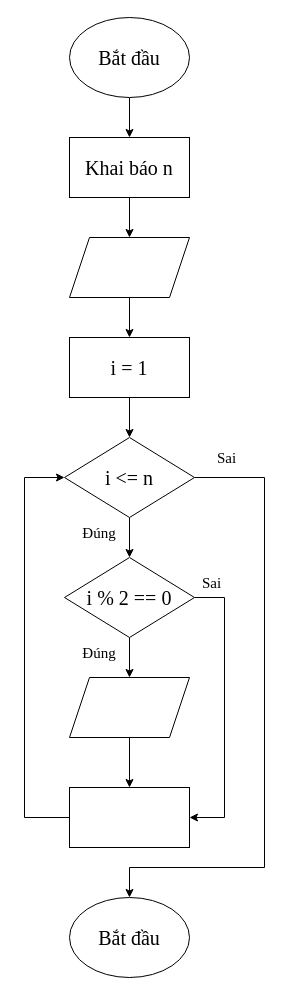
Image size: 290x995. Some labels were removed from this diagram. Each missing label, with the centre of its shape:
i++: [129,817]
In ra i: [129,707]
Nhập n: [129,267]
